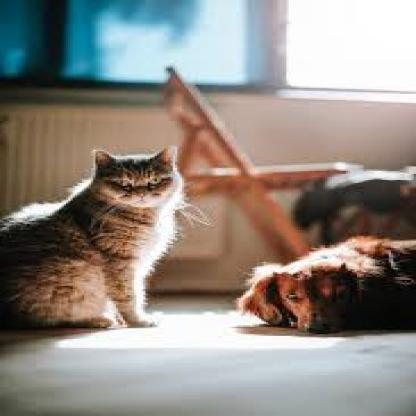cat: (51, 134, 237, 235)
